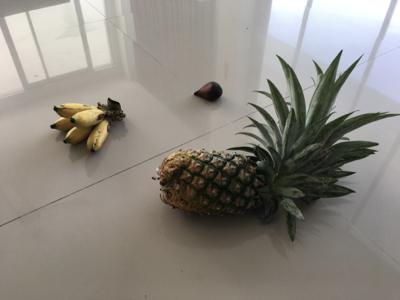banana: (50, 97, 127, 155)
pineapple: (158, 52, 394, 235)
snake fruit: (194, 80, 224, 103)
